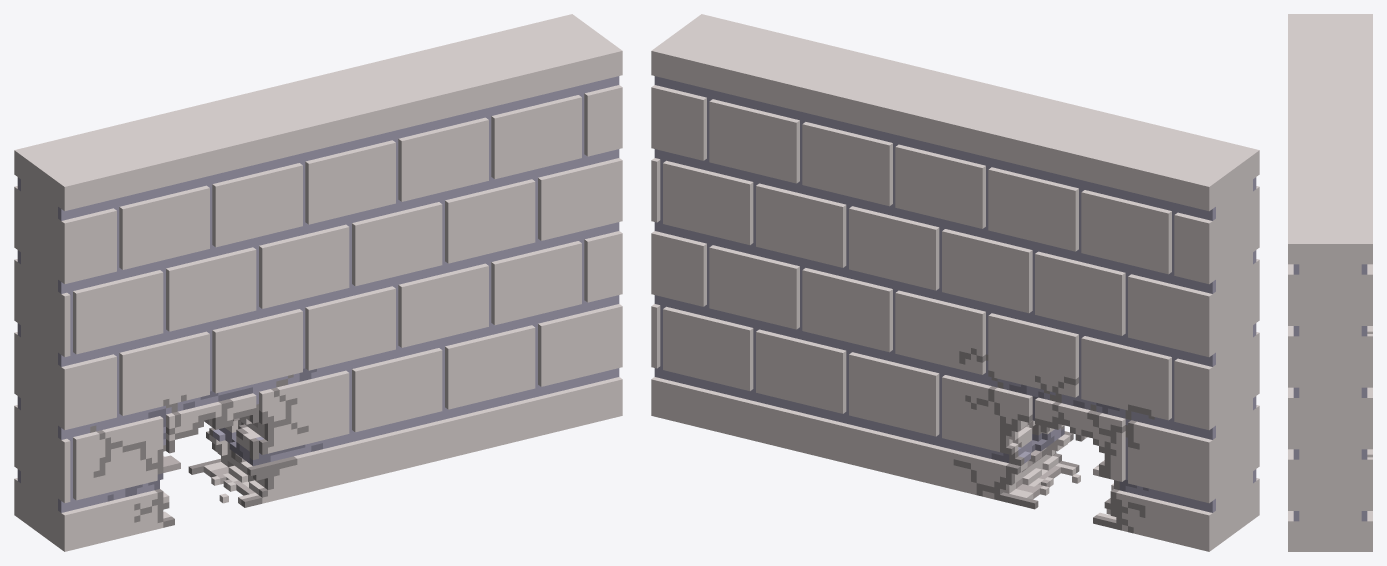
File: WallHole2.obj
3 views of the same model, side by side, from view 1: azimuth 30°, elevation 25°; view 2: azimuth 150°, elevation 25°; view 3: azimuth 270°, elevation 25° (orthographic). The views are drawn at different scales.
Bounding box in the file's own units: 9.6 × 6 × 1.5.
1 material, 1 textured.
